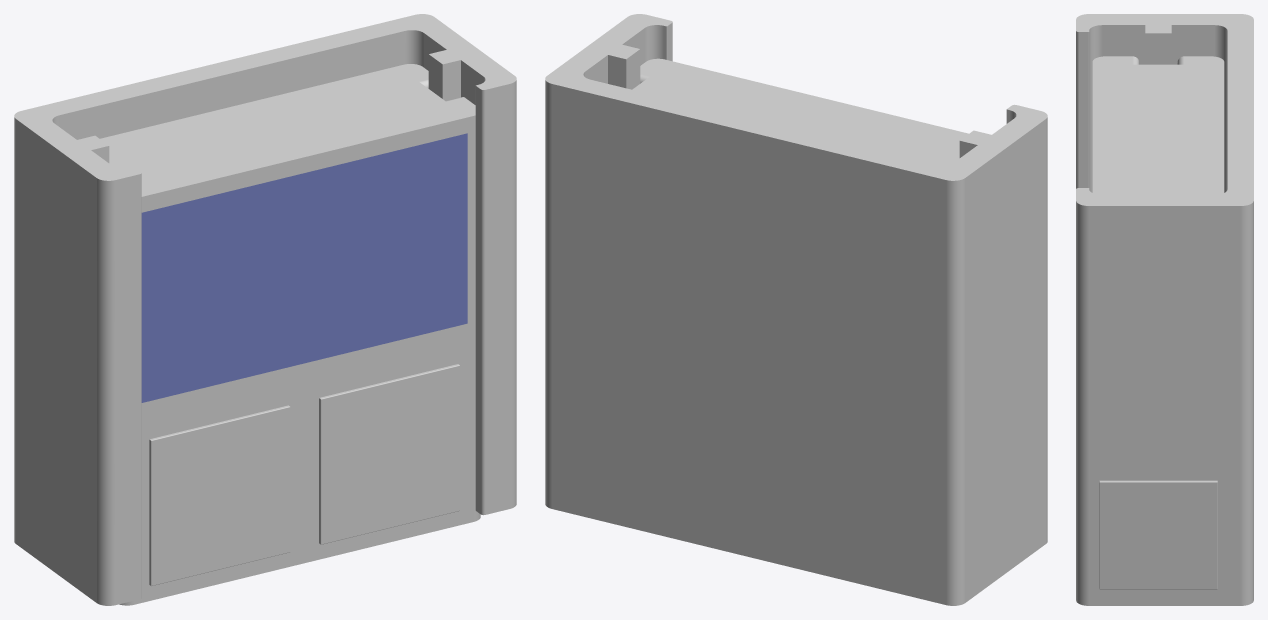
The model's file is handAdapter.glb.
3 renders of one model, left to right at view 1: azimuth 30°, elevation 25°; view 2: azimuth 150°, elevation 25°; view 3: azimuth 270°, elevation 25°, orthographic. The views are drawn at different scales.
Visible parts, largest first — view 1: Body1; view 2: Body1; view 3: Body1.
Part boxes in pixels (x1,y1,x2,y2): Body1: (14, 14, 516, 605); Body1: (545, 14, 1047, 605); Body1: (1076, 14, 1253, 605).
Size of the model in its own units: 69.5 by 69 by 27.
